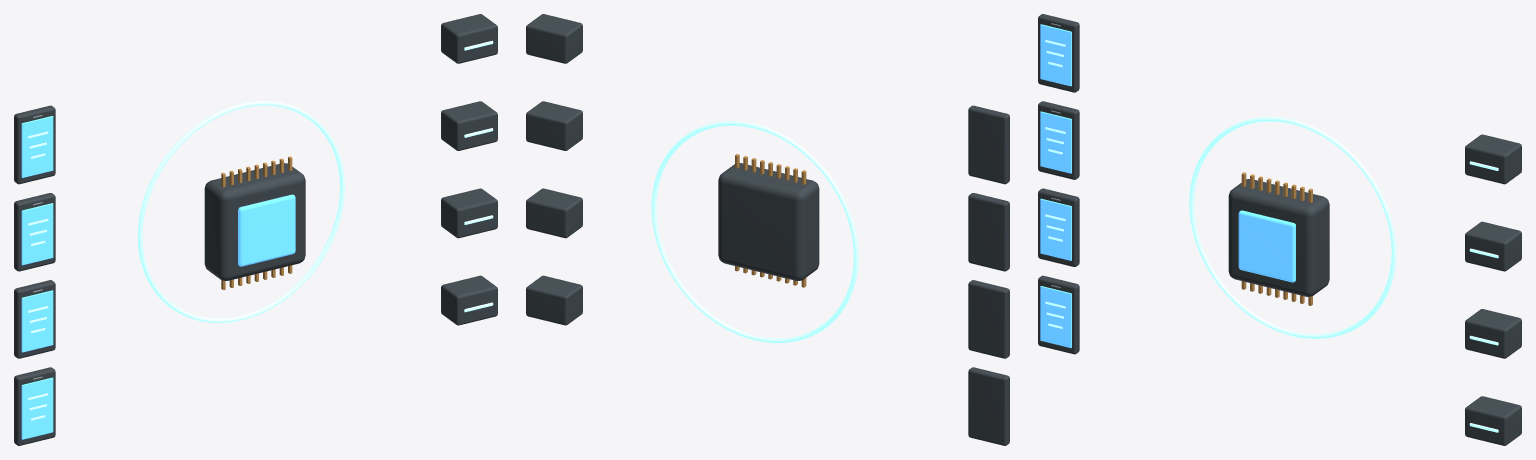
The model's file is freedom2hear.glb.
3 views of the same model, side by side, from view 1: azimuth 30°, elevation 25°; view 2: azimuth 150°, elevation 25°; view 3: azimuth 330°, elevation 25° (orthographic).
Visible parts, largest first — view 1: Inference processor, Processor die, Processing orbit, Output channel.001, Output channel, Output channel.002, Output channel.003, Display, Display.001, Display.002, Display.003, Device enclosure.001 (+3 smaller); view 2: Inference processor, Processing orbit, Device enclosure.003, Device enclosure.001, Device enclosure, Device enclosure.002, Output channel, Output channel.001, Output channel.002, Output channel.003; view 3: Inference processor, Processing orbit, Processor die, Output channel.003, Output channel.001, Output channel.002, Output channel, Display.001, Display.002, Display.003, Display, Device enclosure.002 (+3 smaller).
Boxes of the visible parts, x1,y1,x2,y2 form: Inference processor: [204, 163, 305, 280]; Processor die: [238, 194, 295, 266]; Processing orbit: [137, 101, 344, 322]; Output channel.001: [441, 188, 497, 238]; Output channel: [441, 275, 497, 325]; Output channel.002: [441, 101, 497, 150]; Output channel.003: [441, 14, 497, 63]; Display: [21, 377, 53, 439]; Display.001: [21, 290, 53, 352]; Display.002: [21, 203, 53, 265]; Display.003: [21, 116, 53, 177]; Device enclosure.001: [14, 280, 55, 358]; Inference processor: [718, 163, 819, 280]; Processing orbit: [651, 121, 858, 343]; Device enclosure.003: [968, 105, 1009, 184]; Device enclosure.001: [968, 280, 1009, 358]; Device enclosure: [968, 367, 1009, 445]; Device enclosure.002: [968, 193, 1009, 271]; Output channel: [526, 275, 582, 325]; Output channel.001: [526, 188, 582, 238]; Output channel.002: [526, 101, 582, 150]; Output channel.003: [526, 14, 582, 63]; Inference processor: [1228, 179, 1329, 296]; Processing orbit: [1189, 116, 1396, 338]; Processor die: [1238, 210, 1295, 282]; Output channel.003: [1465, 134, 1521, 184]; Output channel.001: [1465, 309, 1521, 358]; Output channel.002: [1465, 221, 1521, 271]; Output channel: [1465, 396, 1521, 445]; Display.001: [1040, 198, 1071, 260]; Display.002: [1040, 111, 1071, 173]; Display.003: [1040, 24, 1071, 86]; Display: [1040, 286, 1071, 347]; Device enclosure.002: [1038, 101, 1079, 179].
Size of the model in its own units: 7.97 by 5.3 by 0.82.
